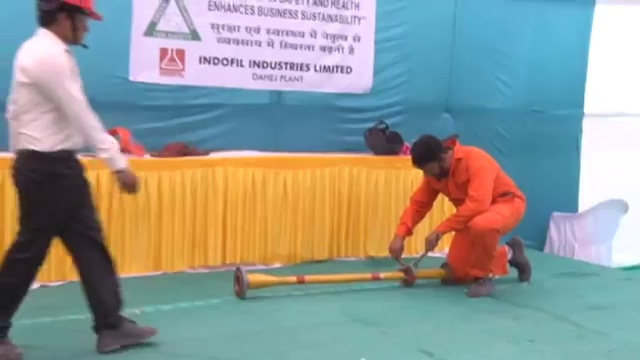helmet: (61, 1, 106, 24)
helmet_off: (412, 136, 451, 178)
helmet_on: (34, 1, 108, 51)
person: (1, 2, 137, 360), (384, 131, 535, 298)
